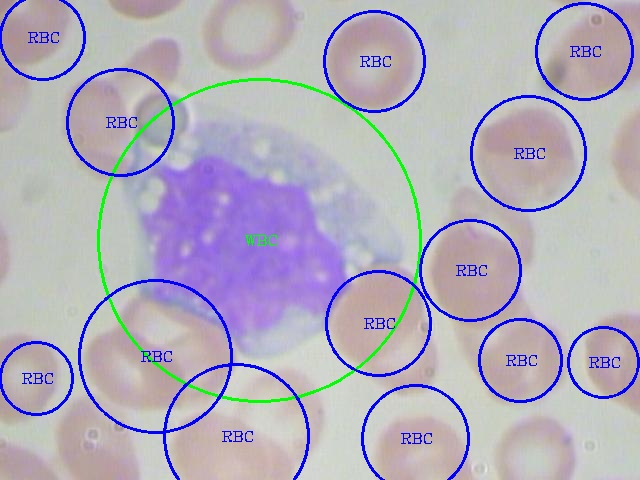RBC: (111, 294, 241, 397), (465, 100, 583, 207), (223, 360, 333, 468), (421, 222, 527, 331), (324, 261, 431, 367), (318, 8, 422, 113), (463, 307, 573, 403), (537, 0, 639, 96), (78, 321, 182, 414), (53, 72, 138, 175), (362, 406, 478, 478), (48, 391, 144, 478), (162, 404, 273, 478), (193, 0, 303, 72), (354, 312, 438, 396), (486, 406, 582, 478), (0, 325, 68, 424), (577, 303, 639, 405), (1, 0, 78, 66)
WBC: (108, 108, 403, 357)
